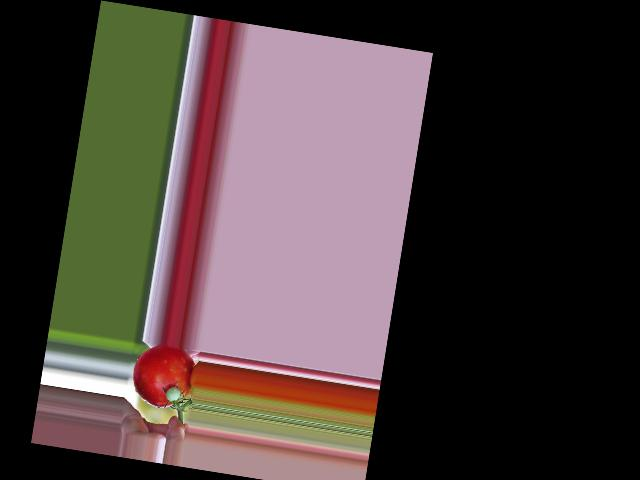tomato: (129, 340, 197, 412)
